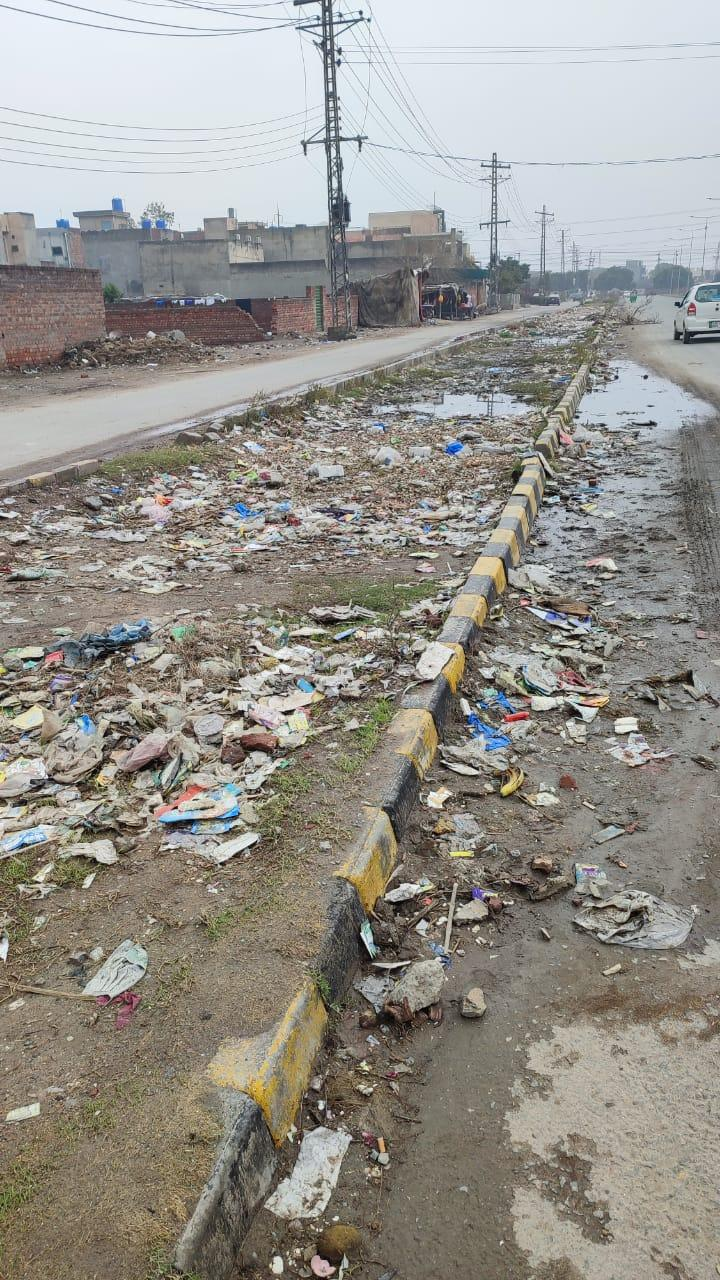garbage: (0, 318, 663, 851)
